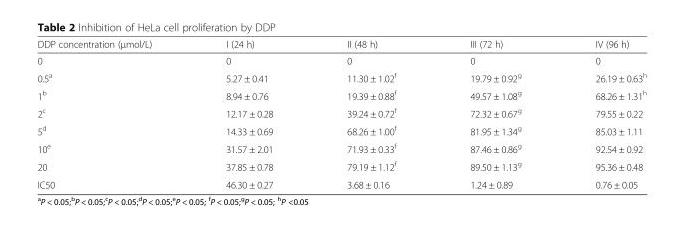table: (36, 37, 646, 189)
table column: (36, 37, 188, 189), (432, 37, 557, 189), (309, 37, 432, 189), (188, 37, 309, 189), (557, 37, 646, 189)
table column header: (36, 37, 646, 52)
table row: (36, 156, 646, 175), (36, 68, 646, 86), (36, 103, 646, 121), (36, 121, 646, 139), (36, 86, 646, 103), (36, 139, 646, 156), (36, 52, 646, 68), (36, 37, 646, 52), (36, 175, 646, 189)
